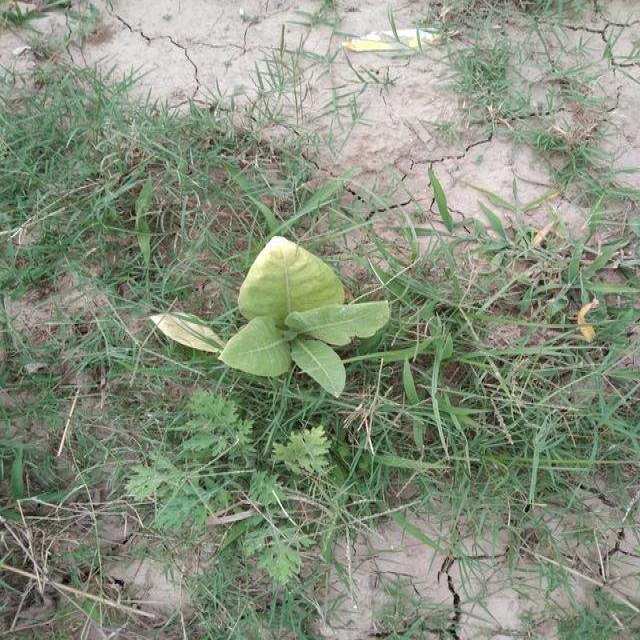crop: (138, 230, 407, 394)
